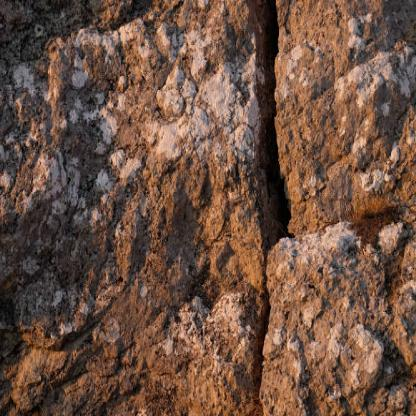Sedimentary_Limestone: (0, 0, 249, 415), (280, 0, 415, 220), (264, 229, 389, 415)
